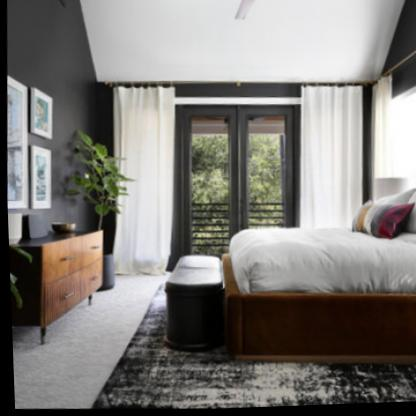Bed: (218, 179, 416, 368)
Curtains: (111, 87, 178, 274), (297, 87, 363, 232)
Sideboard: (7, 231, 103, 345)
